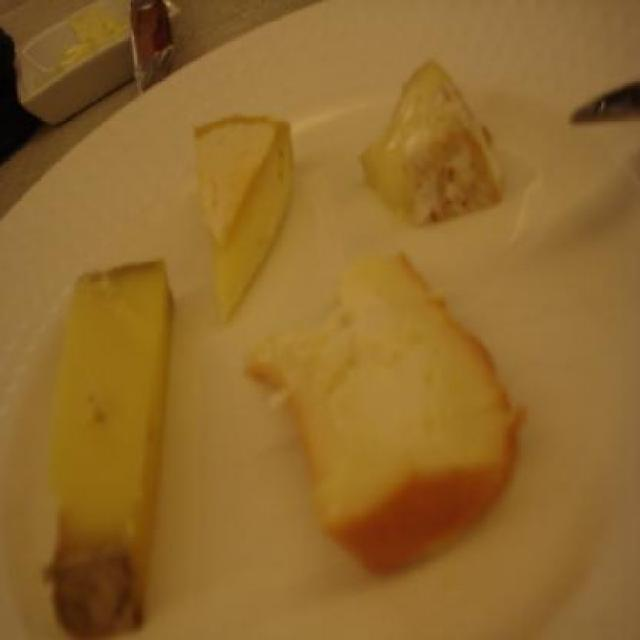Cheese: (243, 245, 534, 584), (38, 256, 180, 639), (358, 54, 496, 222), (188, 112, 294, 320)
